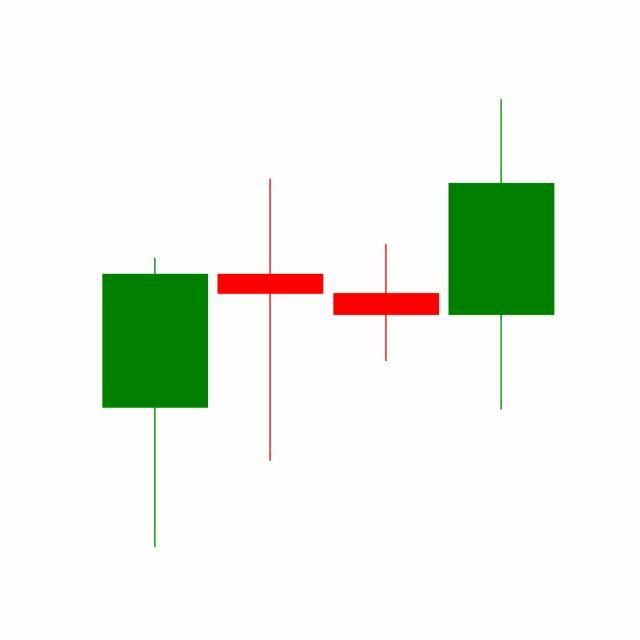Spinning Top: (329, 243, 445, 364)
